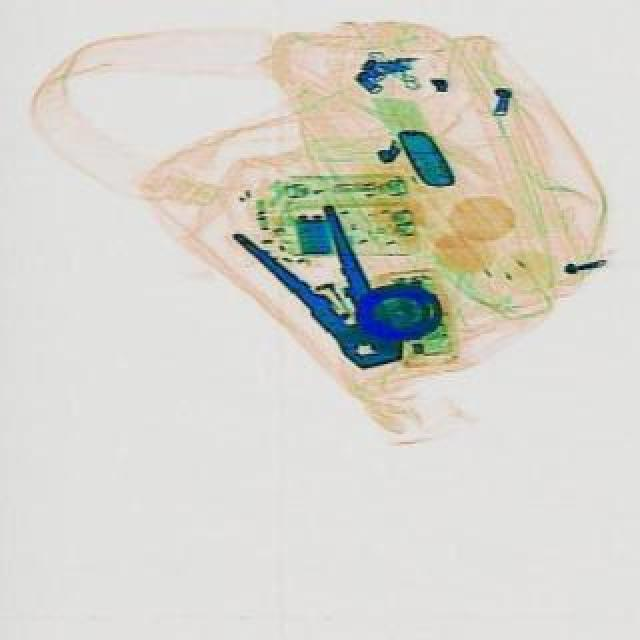wrench: (228, 186, 422, 394)
